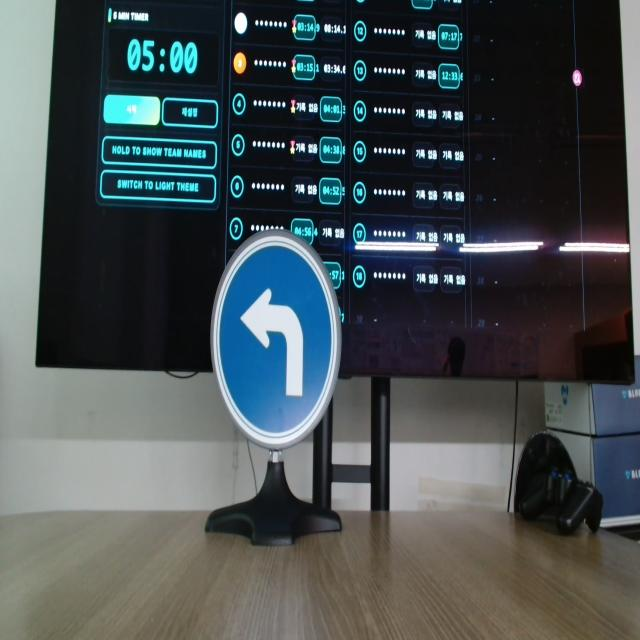left_direction: (212, 227, 344, 453)
